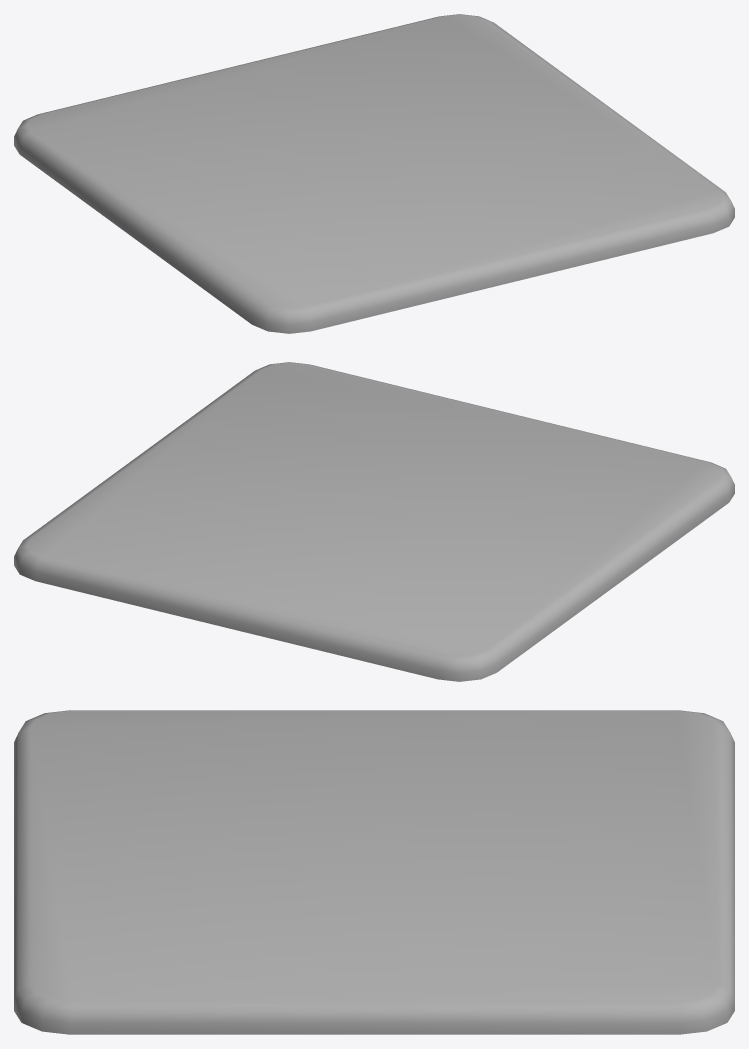
The model's file is cell_faded.glb.
3 views of the same model, one above another, from view 1: azimuth 30°, elevation 25°; view 2: azimuth 150°, elevation 25°; view 3: azimuth 270°, elevation 25° (orthographic). The views are drawn at different scales.
Parts seen in each view (by area): view 1: cell_faded; view 2: cell_faded; view 3: cell_faded.
Part boxes in pixels (left/top/right/bottom): cell_faded: left=14, top=14, right=734, bottom=333; cell_faded: left=14, top=362, right=734, bottom=681; cell_faded: left=14, top=710, right=734, bottom=1034.
Size of the model in its own units: 1 by 0.04 by 1.
1 material, 1 textured.
